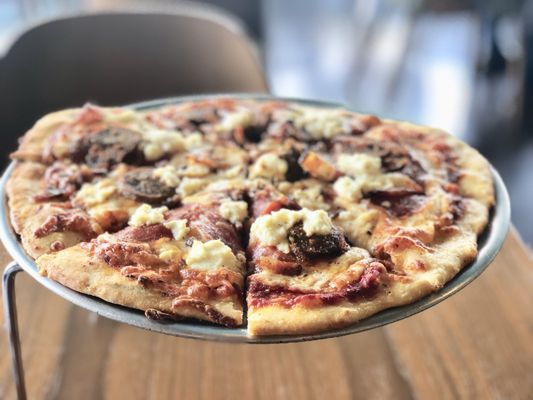pasta: (0, 2, 269, 181)
sandwich: (1, 96, 491, 335)
